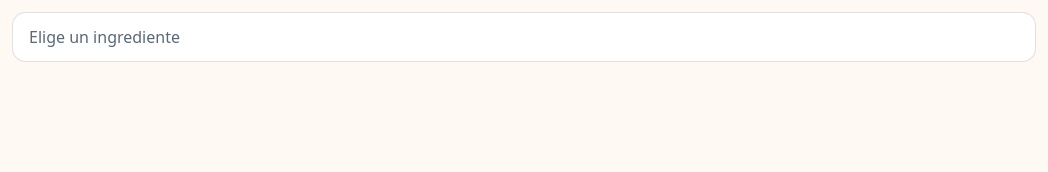
Test case: SearchableSelect › filters the options while the user writes, without taking into account upper case or accents
This screenshot has width=1048, height=172.
Type "JAMON" into the dropdown named "Ingrediente 1" at (524, 37), box [12,12,1036,62]
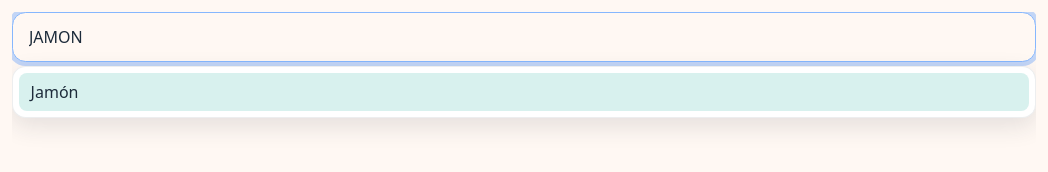
Replace the text in the dropdown named "Ingrediente 1" with "hamburguésa" at (524, 37), box [12,12,1036,62]
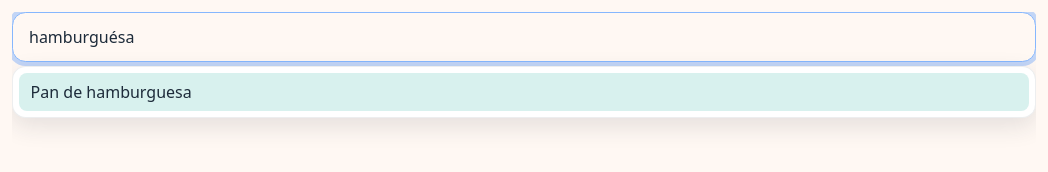
Replace the text in the dropdown named "Ingrediente 1" with "lechuga" at (524, 37), box [12,12,1036,62]
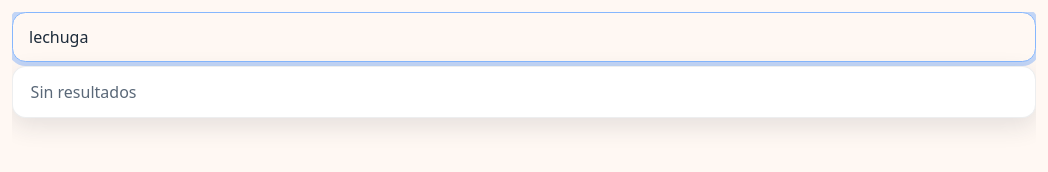
expect the list item "Sin resultados" is shown: met, box [31,81,136,103]
